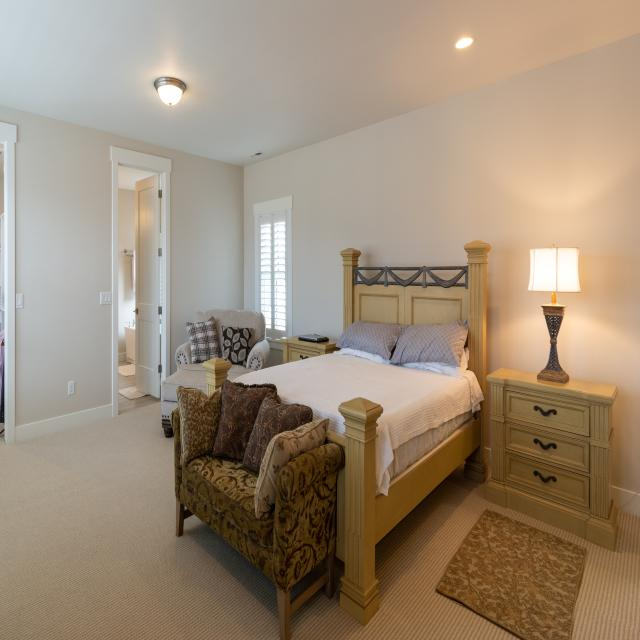floor: (0, 401, 280, 640), (290, 460, 640, 640), (118, 385, 161, 416), (118, 373, 135, 390), (118, 361, 132, 366)
wall: (244, 32, 640, 517), (0, 105, 244, 442), (118, 188, 136, 362)
